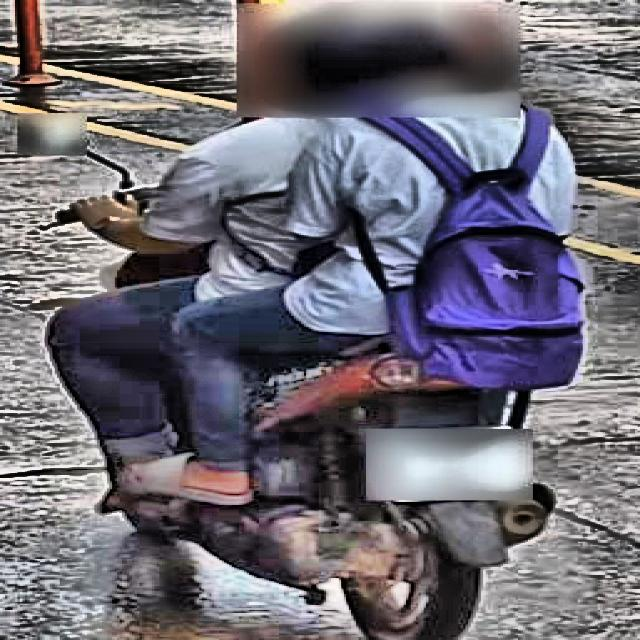motorcycle: (0, 116, 563, 627)
